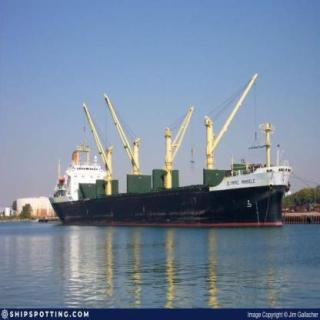Bulk Carrier: (32, 86, 296, 222)
